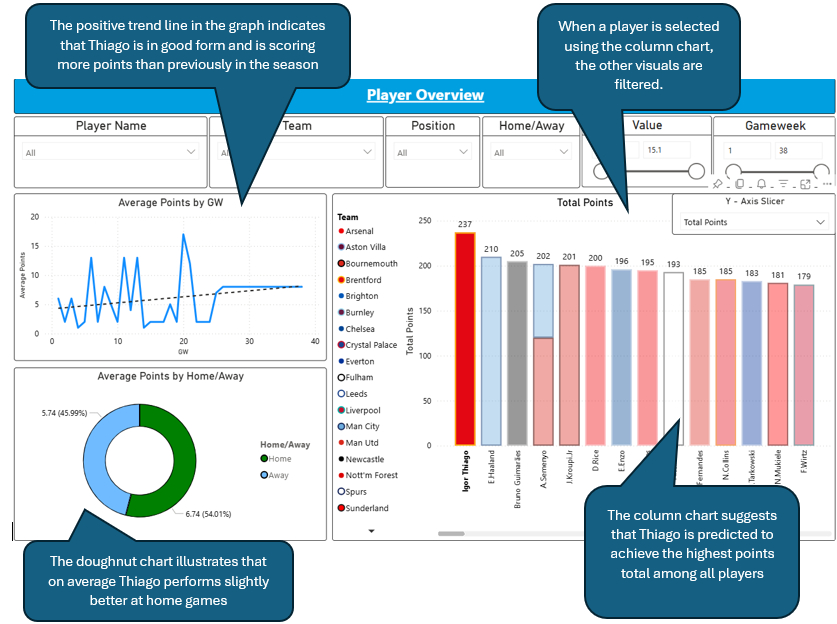

This screenshot's page, from the dashboard's own definition file:
{"tool":"powerbi","page":{"name":"Player Overview","canvas":[1280,720],"ordinal":1},"visuals":[{"type":"columnChart","fields":{"Y":["FPL_predicted_point.Sum_actual/predicted_points"],"Category":["FPL_predicted_point.Report_name"],"Series":["FPL_predicted_point.team"]},"box":[495.3,178.9,784.7,540.7],"z":0,"group":"g2"},{"type":"group","id":"g1","title":"Group 1","box":[0,58.2,1280,112.9],"z":1000},{"type":"slicer","title":"Team","fields":{"Values":["FPL_predicted_point.team"]},"box":[303.9,60,271.6,111.1],"z":1000,"group":"g1"},{"type":"textbox","box":[0,0,1280,55.6],"z":2000},{"type":"slicer","title":"Position","fields":{"Values":["FPL_predicted_point.position","FPL_predicted_point.name"]},"box":[578.2,60,147,110.3],"z":2000,"group":"g1"},{"type":"slicer","title":"Gameweek","fields":{"Values":["FPL_predicted_point.GW"]},"box":[1088.2,59.1,191.8,110.3],"z":3000,"group":"g1"},{"type":"donutChart","title":"Average Points by Home/Away","fields":{"Category":["FPL_predicted_point.Home/Away"],"Y":["Avg(FPL_predicted_point.Actual/Predicted Points)"]},"box":[0,449.7,486.1,270.4],"z":3000},{"type":"slicer","title":"Value","fields":{"Values":["FPL_predicted_point.value"]},"box":[882.9,58.2,202.6,111.1],"z":4000,"group":"g1"},{"type":"lineChart","title":"Average Points by GW","fields":{"Category":["FPL_predicted_point.GW"],"Y":["Avg(FPL_predicted_point.Actual/Predicted Points)"]},"box":[0,179.3,486.1,260.4],"z":4000},{"type":"slicer","title":"Home/Away","fields":{"Values":["FPL_predicted_point.Home/Away"]},"box":[727.8,59.1,152.4,111.1],"z":5000,"group":"g1"},{"type":"slicer","title":"Player Name","fields":{"Values":["FPL_predicted_point.name"]},"box":[0,60,301.2,111.1],"z":6000,"group":"g1"},{"type":"slicer","title":"Y - Axis Slicer","fields":{"Values":["Y-Axis.Y-Axis"]},"box":[1023.6,178.9,256.4,64.1],"z":6000,"group":"g2"},{"type":"group","id":"g2","title":"Group 2","box":[495.3,178.9,784.7,540.7],"z":6001}]}

Visuals, with their boxes on the page's 1280x720 design canvas (x1, y1, x2, y2). These are canvas units, not pixel positions in the 837x624 screenshot, which may show the page scaled, cropped or inside an application window:
columnChart - FPL_predicted_point.Sum_actual/predicted_points x FPL_predicted_point.Report_name: [x1=495, y1=179, x2=1280, y2=720]
"Group 1" group: [x1=0, y1=58, x2=1280, y2=171]
"Team" slicer: [x1=304, y1=60, x2=576, y2=171]
textbox: [x1=0, y1=0, x2=1280, y2=56]
"Position" slicer: [x1=578, y1=60, x2=725, y2=170]
"Gameweek" slicer: [x1=1088, y1=59, x2=1280, y2=169]
"Average Points by Home/Away" donutChart: [x1=0, y1=450, x2=486, y2=720]
"Value" slicer: [x1=883, y1=58, x2=1086, y2=169]
"Average Points by GW" lineChart: [x1=0, y1=179, x2=486, y2=440]
"Home/Away" slicer: [x1=728, y1=59, x2=880, y2=170]
"Player Name" slicer: [x1=0, y1=60, x2=301, y2=171]
"Y - Axis Slicer" slicer: [x1=1024, y1=179, x2=1280, y2=243]
"Group 2" group: [x1=495, y1=179, x2=1280, y2=720]
